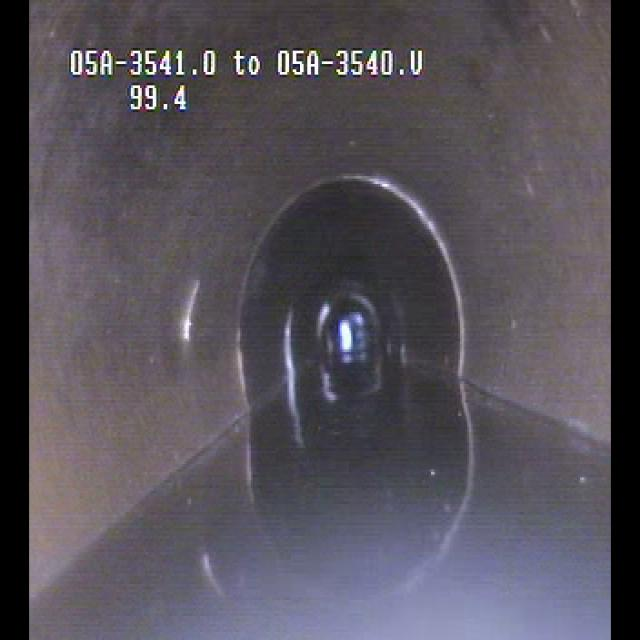Crack: (176, 261, 212, 365)
